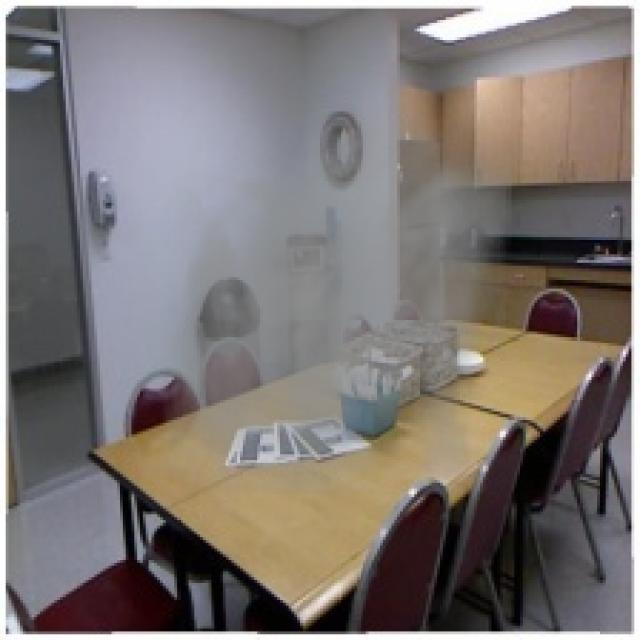smoke: (163, 83, 511, 494)
